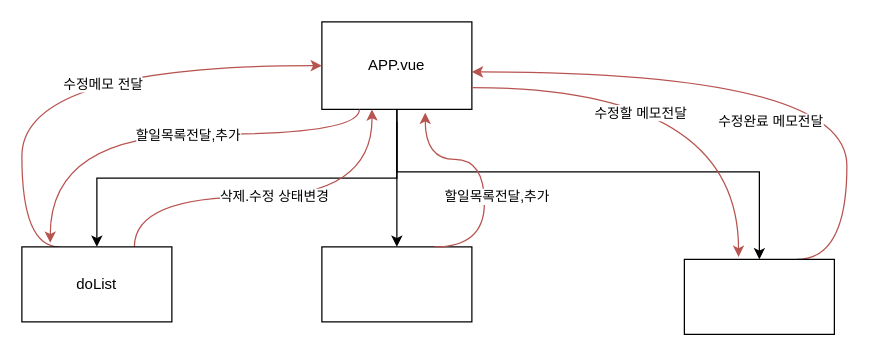
Some shapes in this 869 by 356 pixel diagram are drawn without their labels. Here are the shapes that lost their labels. From the top down, the centre of each, then its label:
At point 396,284: "ListAdd".
At point 758,296: "listChage".
